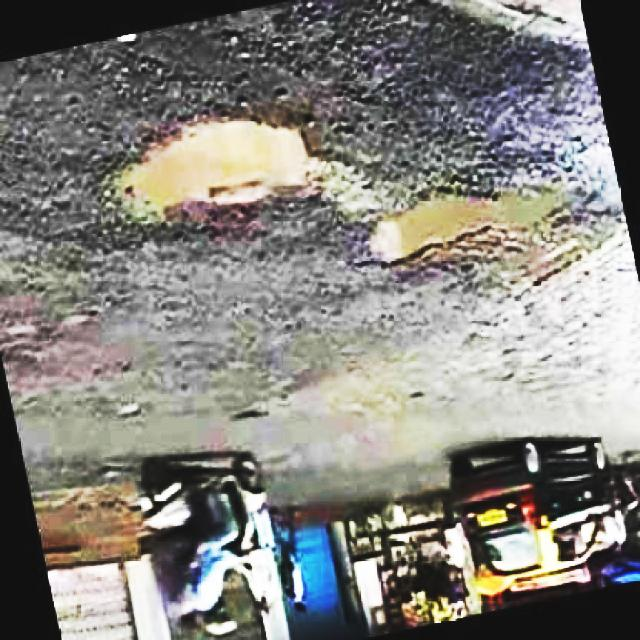pothole: (109, 103, 334, 226), (357, 168, 605, 277)
